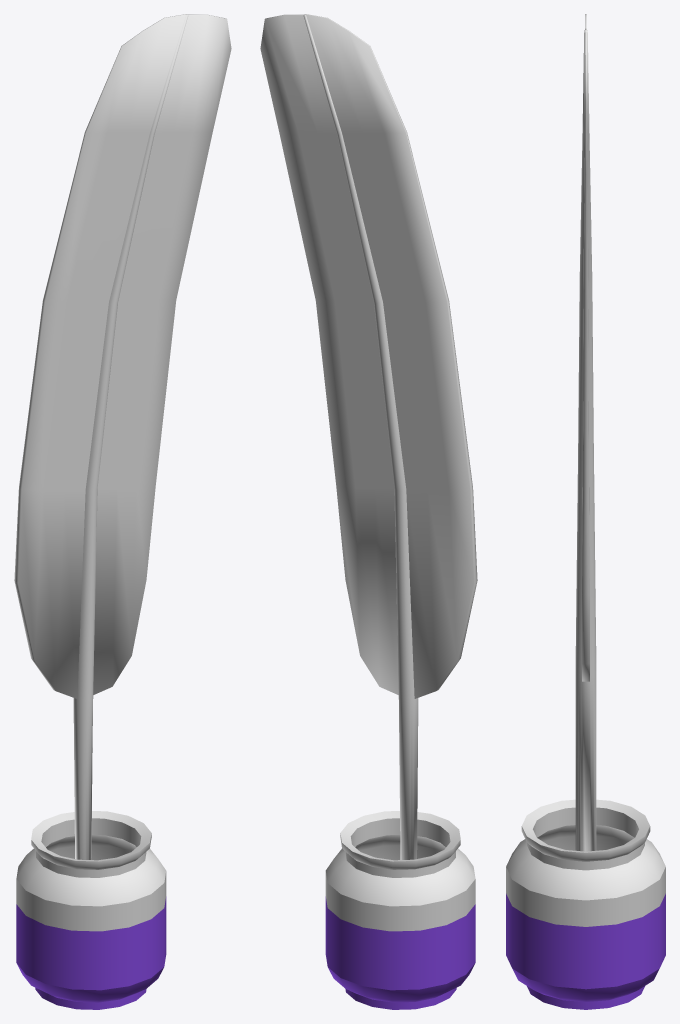
File: Quill.fbx
3 views of the same model, side by side, from view 1: azimuth 30°, elevation 25°; view 2: azimuth 150°, elevation 25°; view 3: azimuth 270°, elevation 25° (orthographic). The views are drawn at different scales.
Parts seen in each view (by area): view 1: QuillPen, QuillBottle; view 2: QuillPen, QuillBottle; view 3: QuillBottle, QuillPen.
Part boxes in pixels (box(x1,y1,x2,y2)): QuillPen: box(14, 14, 231, 859); QuillBottle: box(16, 811, 166, 1009); QuillPen: box(260, 14, 477, 859); QuillBottle: box(325, 811, 475, 1009); QuillBottle: box(506, 799, 665, 1009); QuillPen: box(575, 14, 596, 851).
Size of the model in its own units: 0.2845 by 0.4687 by 1.97.
